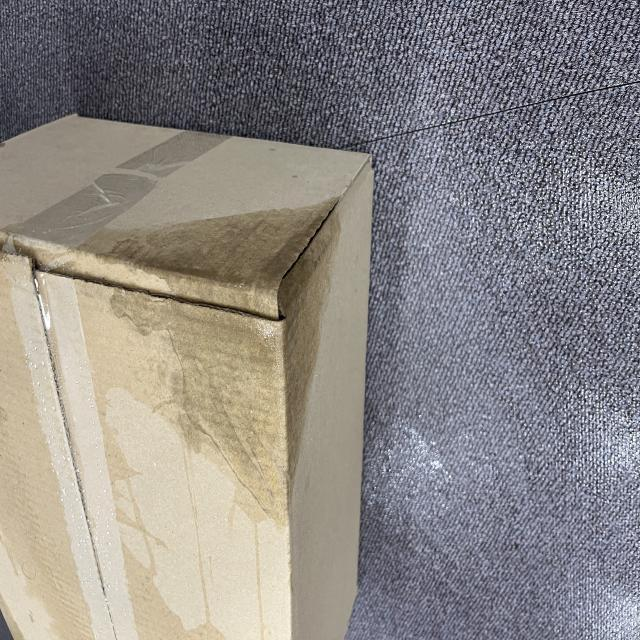wet: (68, 205, 340, 514)
